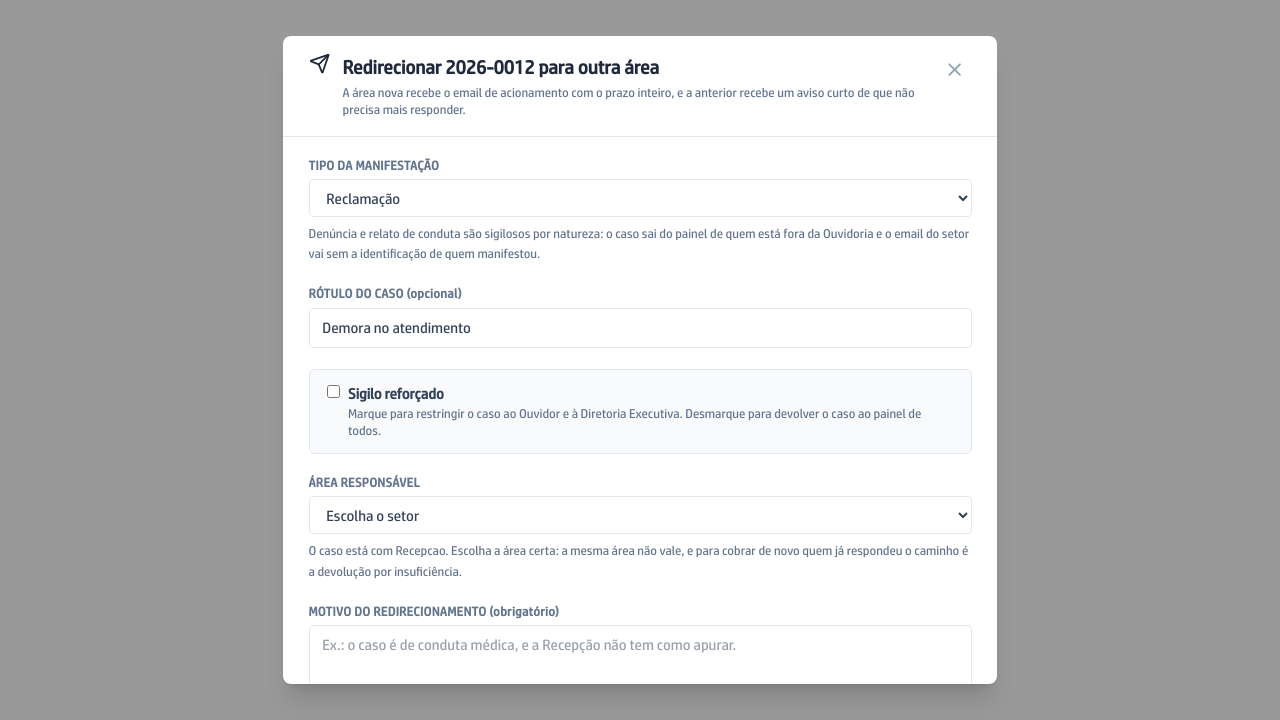
Test: cada recusa da rota aparece com a frase do servidor › a recusa que não tem texto legível não vira sucesso nem tela vazia
Select "Centro Medico" in the dropdown labelled "Área responsável". click: (640, 516)
box: [308,496,972,534]
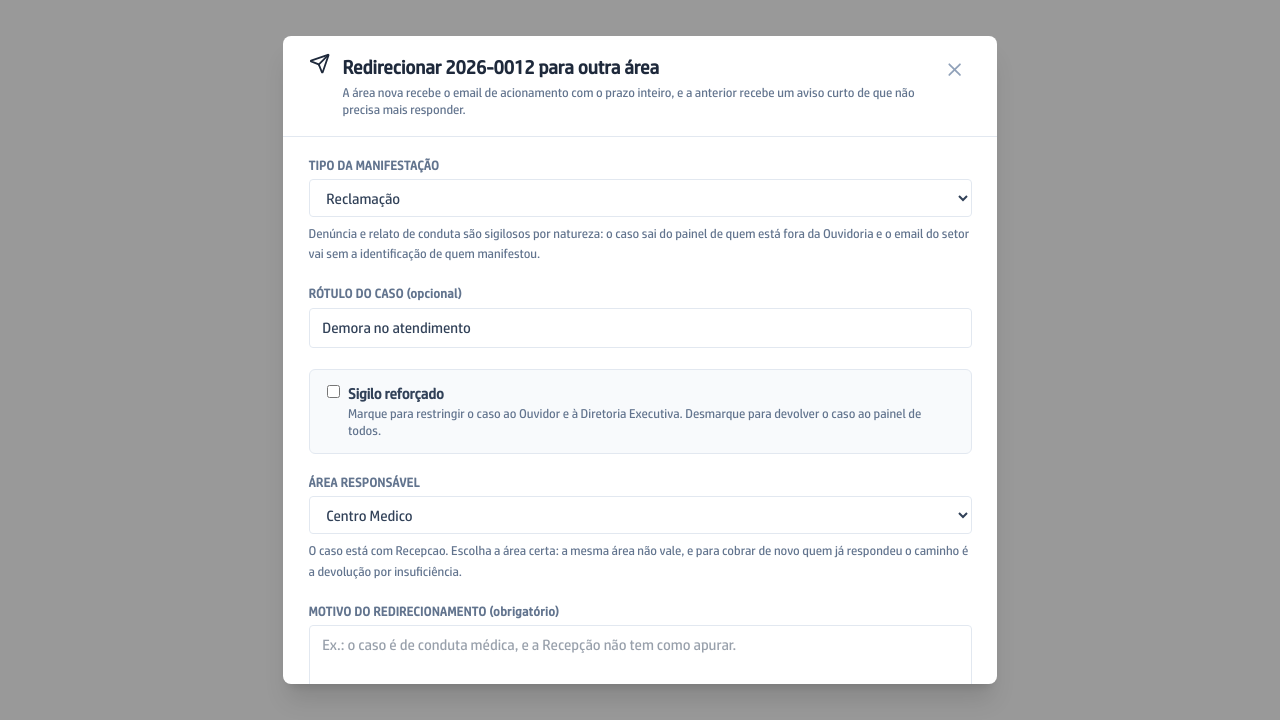
Replace the text in the text box labelled "Motivo do redirecionamento (obrigatório)" with "O caso é de conduta médica, e a Recepção não tem como apurar.". click: (640, 660)
box: [308,625,972,695]
(page scrolled)
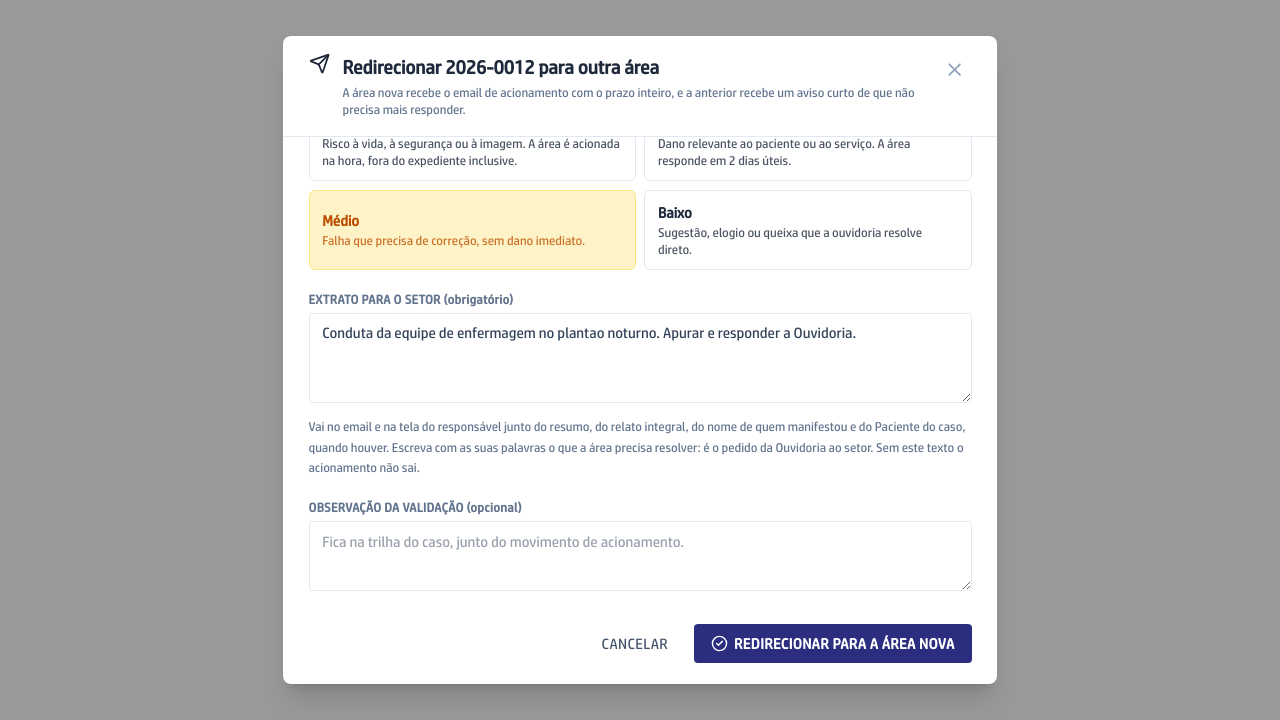
Click the button "Redirecionar para a área nova". click: (833, 644)
box: [694,624,972,663]
(page scrolled)
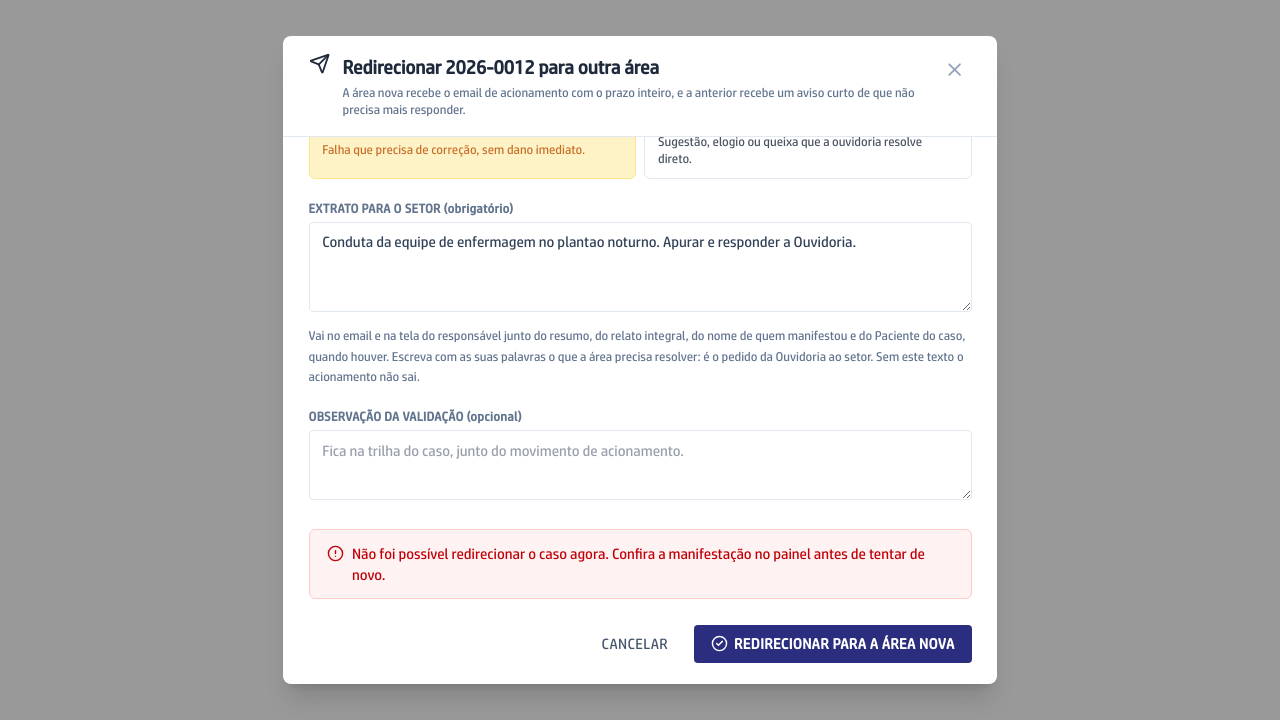
Result: the text "Não foi possível redirecionar o caso agora" is shown at [352,545,925,583]
